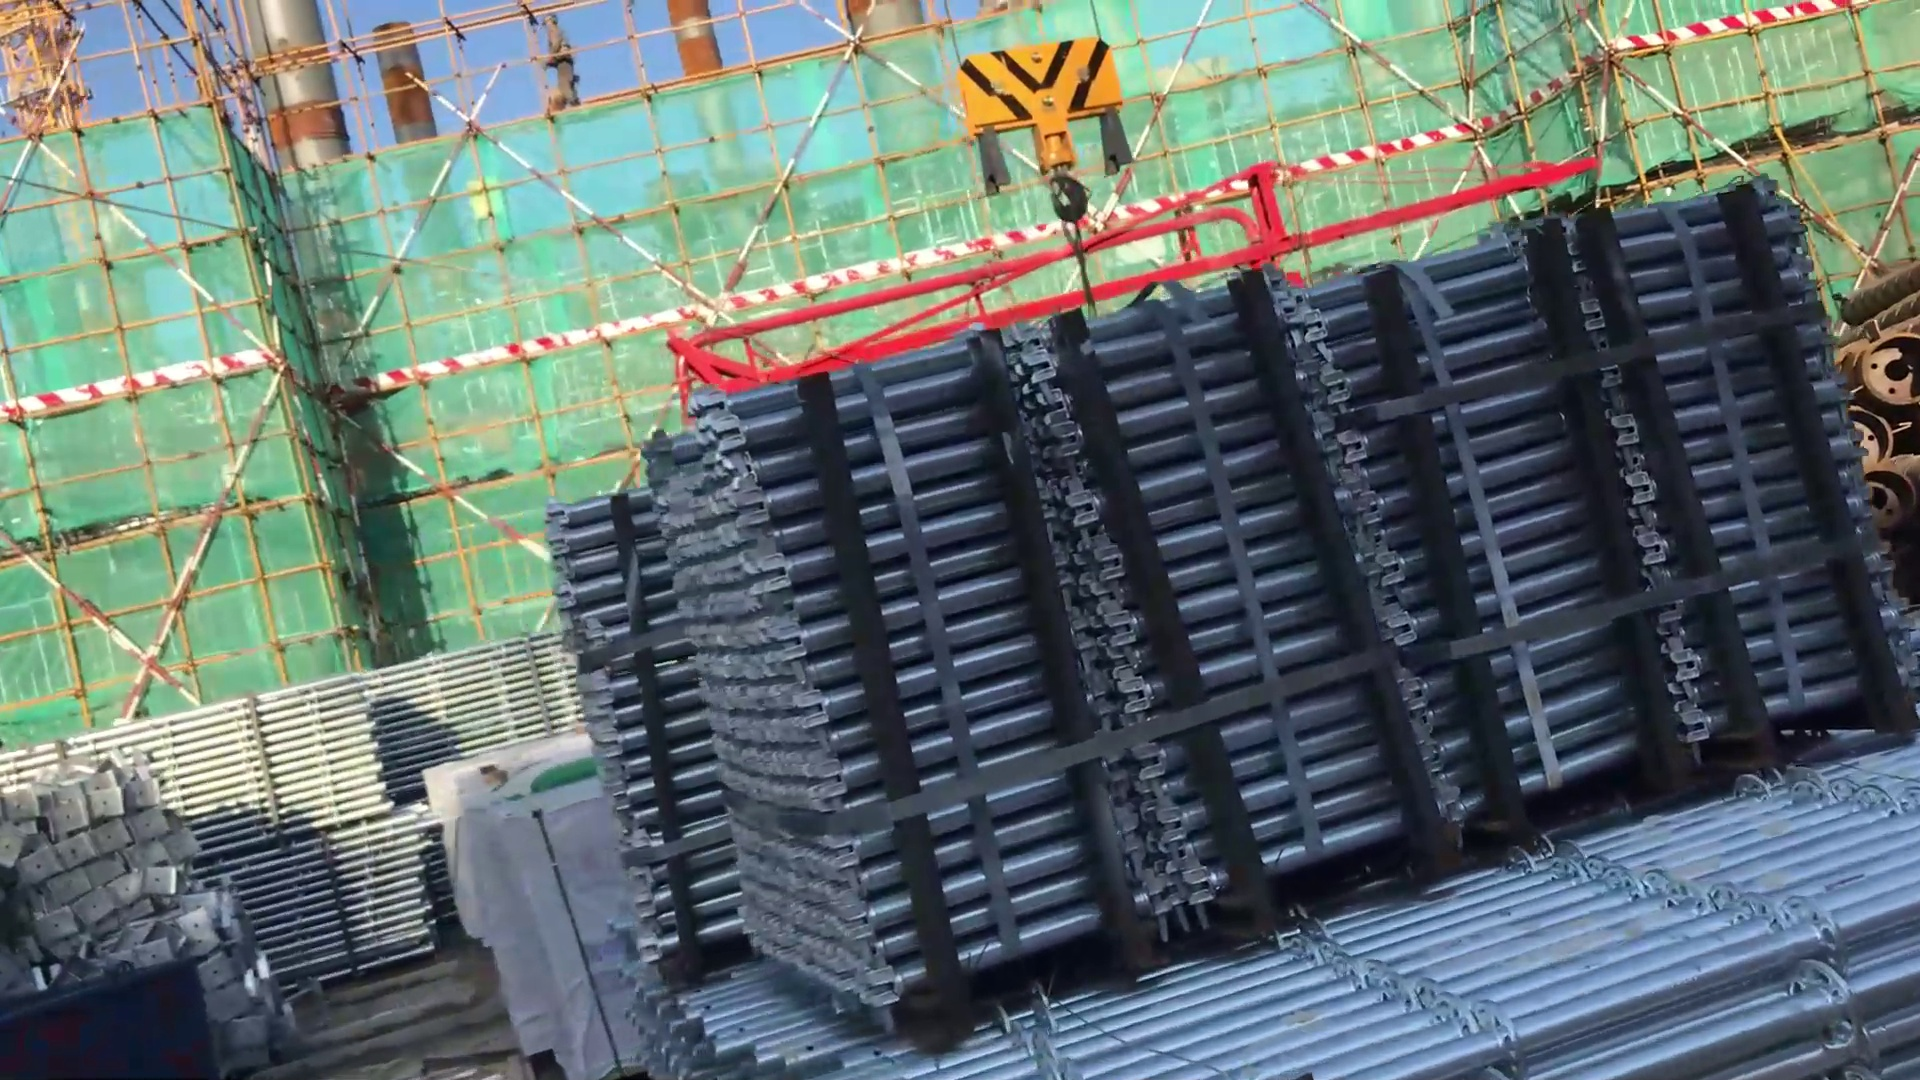hook: (922, 28, 1151, 273)
hopper: (1, 949, 209, 1080)
person: (534, 4, 585, 123)
scaffold: (625, 734, 1919, 1073), (484, 305, 1111, 982), (1006, 253, 1469, 916), (1297, 206, 1731, 820), (1558, 164, 1902, 807), (130, 644, 622, 999)
